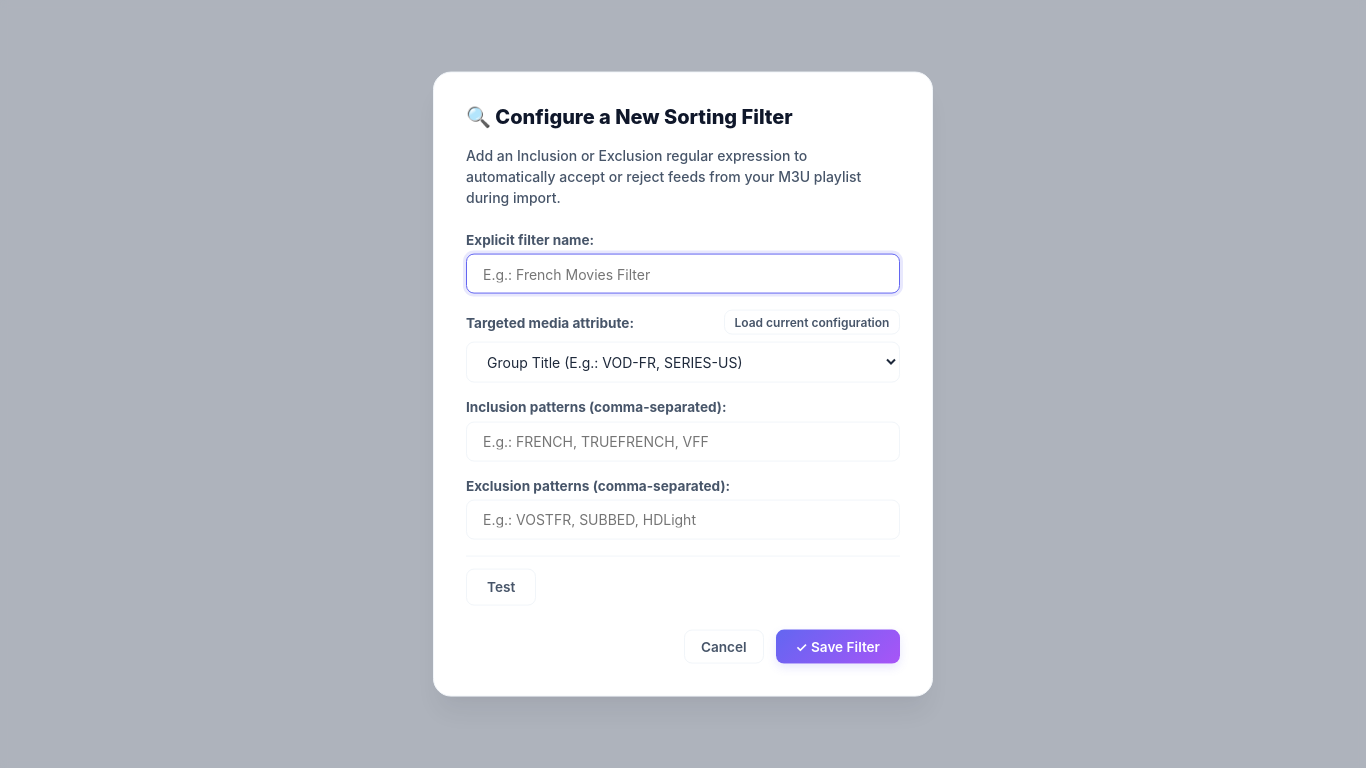
it: CreateFilterDialog › dry-run testing › opens the test drawer with a single target built from the in-progress attribute/patterns
Type "FRENCH" into the field with placeholder "E.g.: FRENCH, TRUEFRENCH, VFF" at x=683, y=441, box 466,421 -> 900,461
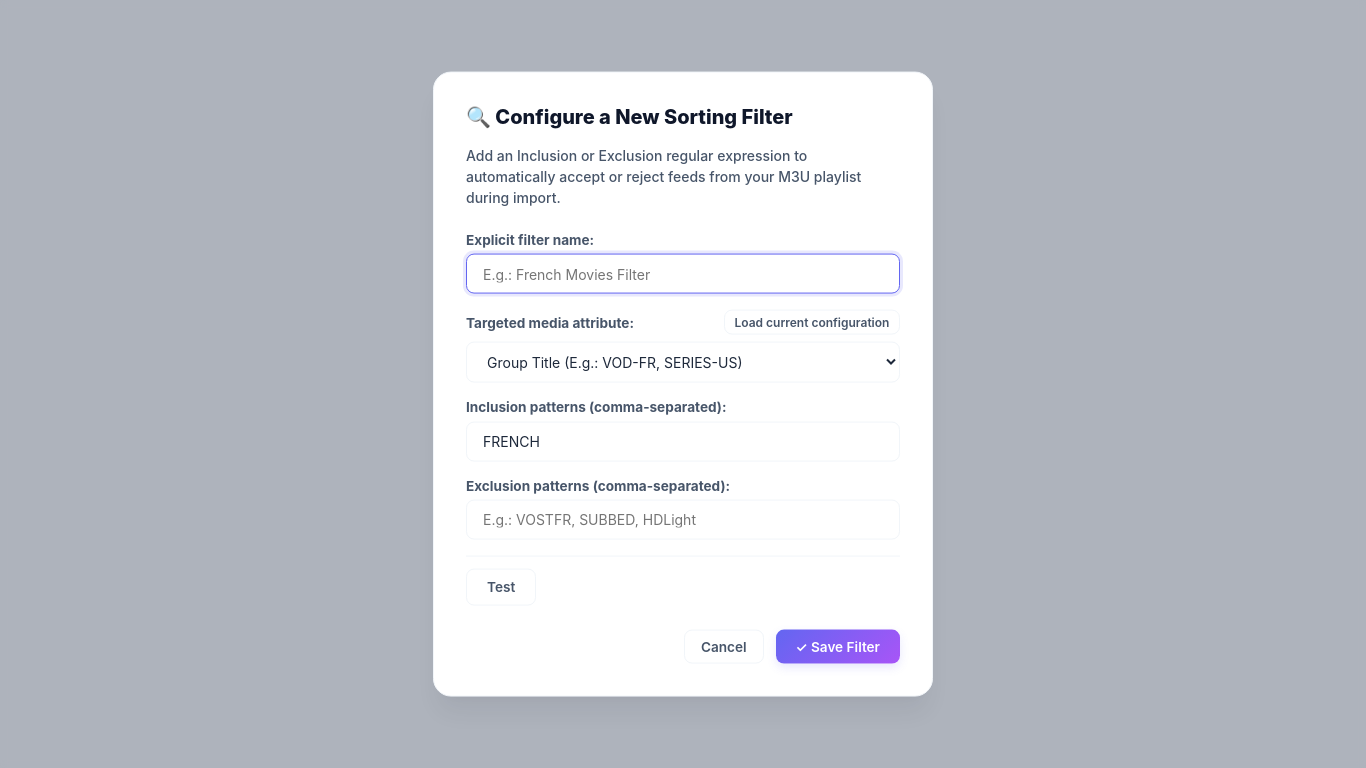
Click the button "Test" at x=501, y=587, box 466,568 -> 536,606
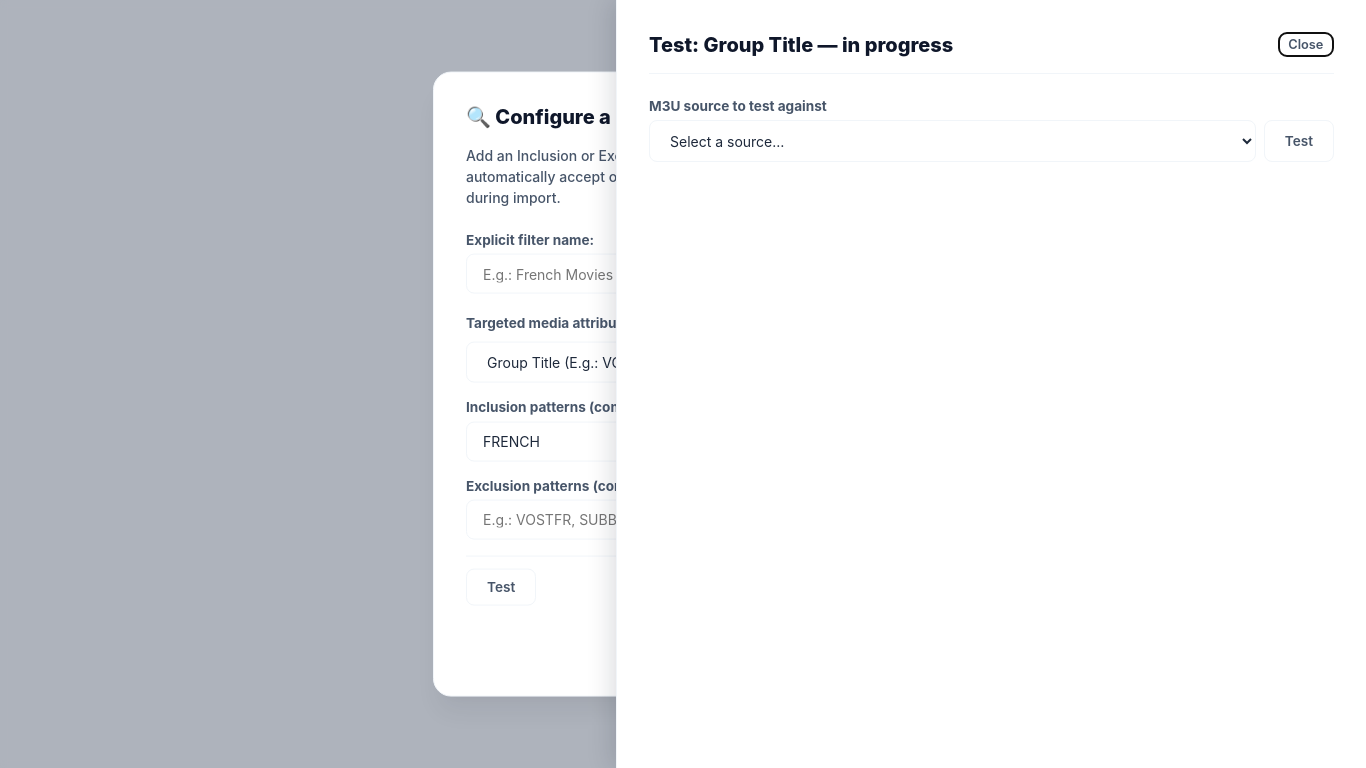
Check: the heading "Test: Group Title — in progress" is shown, box 649,32 -> 953,56
